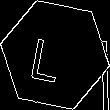L_N: (36, 27, 74, 83)
